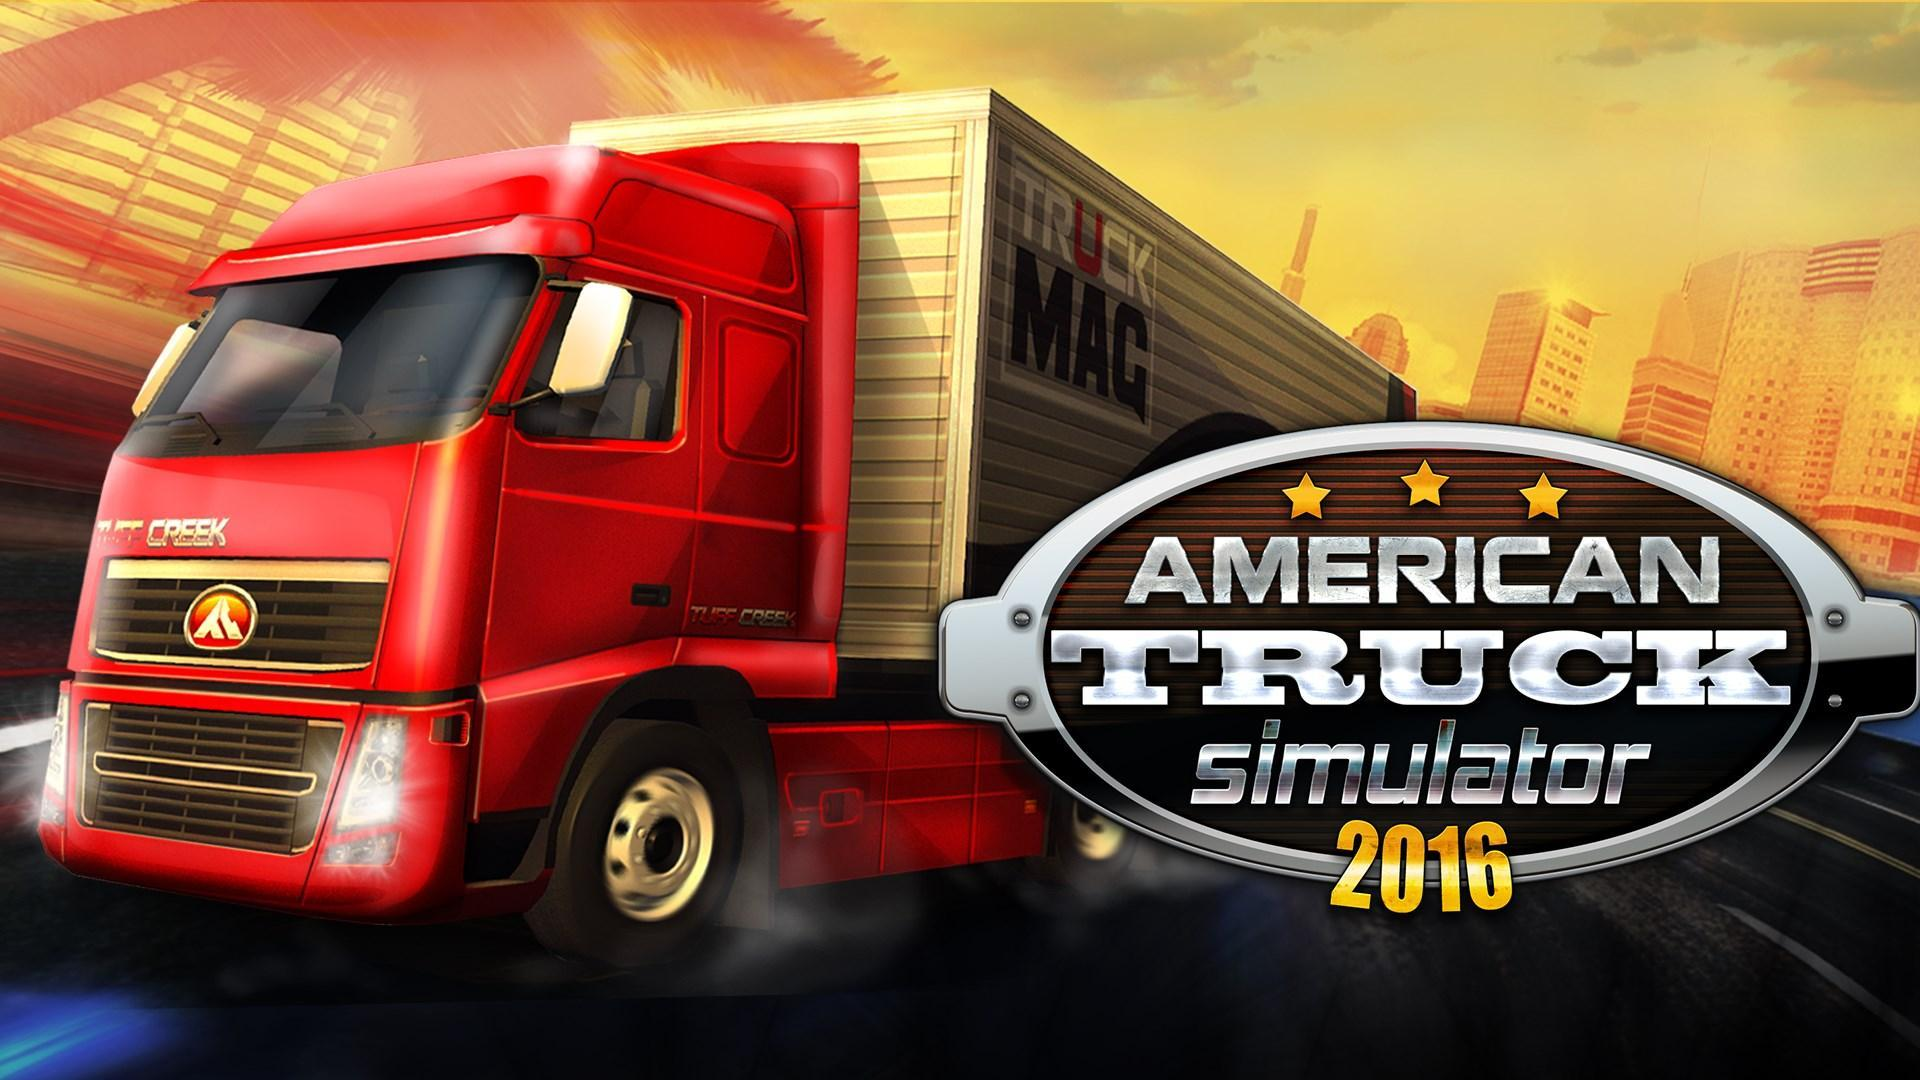truck: (0, 84, 880, 988)
